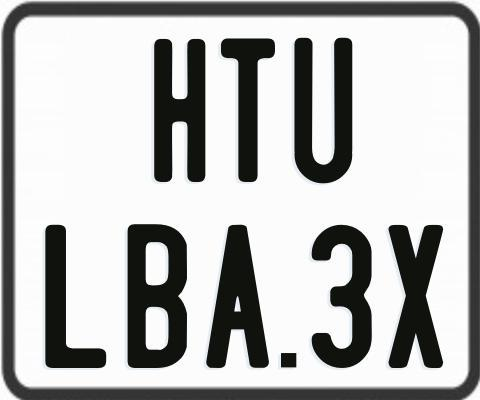3: (311, 222, 375, 368)
A: (206, 223, 271, 371)
B: (125, 223, 186, 367)
H: (151, 39, 207, 188)
L: (45, 222, 108, 370)
T: (220, 38, 280, 186)
U: (293, 36, 353, 183)
X: (387, 223, 441, 368)
